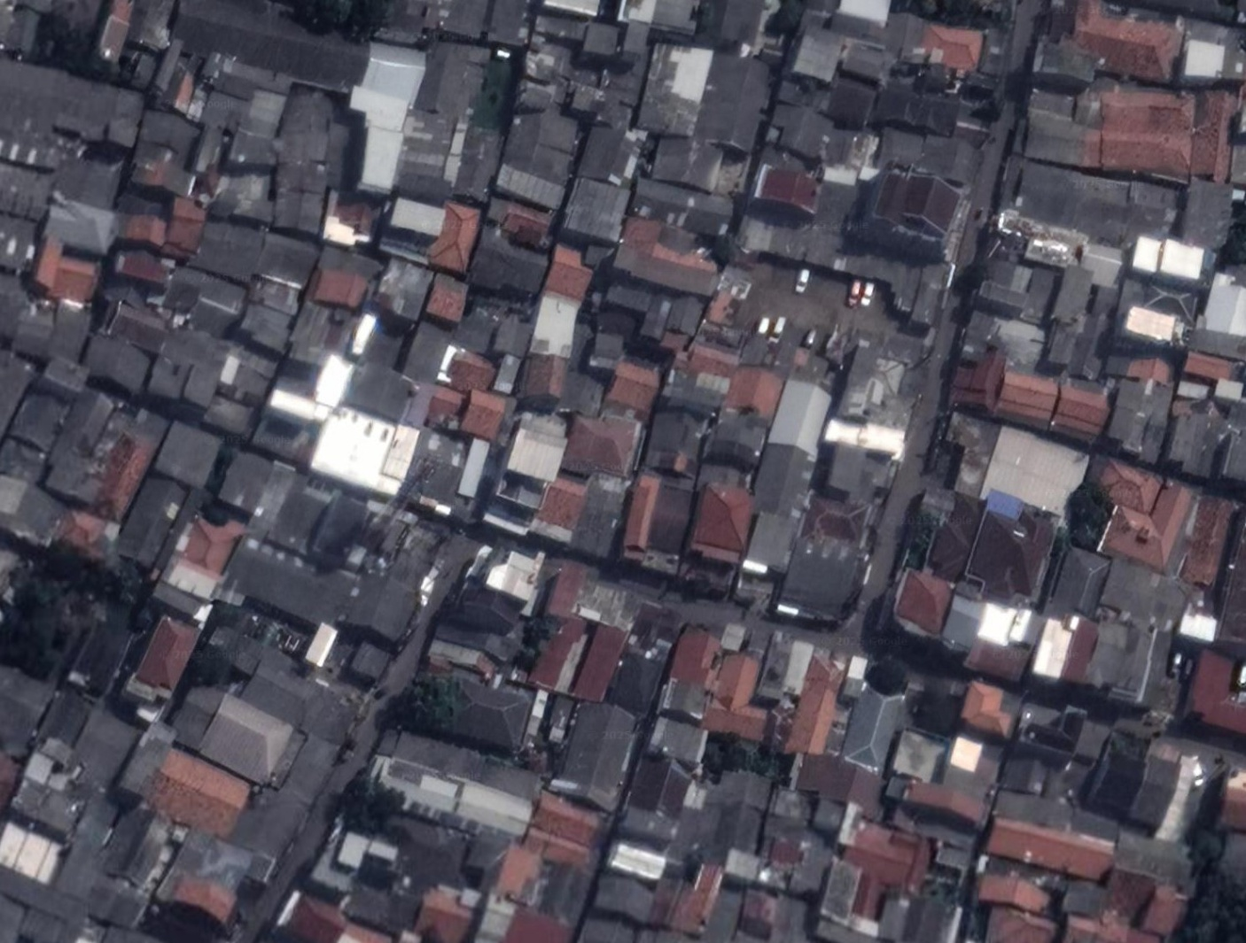building: (267, 301, 443, 456), (360, 719, 546, 852), (994, 151, 1183, 259), (166, 0, 374, 98), (0, 56, 149, 183), (112, 724, 258, 851), (791, 225, 954, 334), (362, 750, 537, 848), (228, 718, 343, 866), (189, 69, 291, 223), (219, 529, 360, 633), (166, 677, 297, 787), (490, 790, 602, 917), (603, 208, 726, 320), (208, 448, 332, 559), (147, 498, 252, 623), (151, 829, 277, 931), (1094, 827, 1204, 943), (71, 397, 171, 520), (482, 408, 571, 539), (307, 401, 424, 500), (980, 811, 1116, 896), (550, 695, 646, 814), (1100, 464, 1201, 575), (979, 424, 1092, 523), (735, 439, 816, 577), (962, 499, 1058, 613), (829, 823, 936, 925), (861, 157, 968, 258), (111, 611, 202, 729), (406, 107, 510, 210), (48, 849, 163, 941), (844, 328, 935, 435), (0, 151, 127, 226), (938, 587, 1045, 671), (689, 45, 769, 156), (651, 626, 734, 731), (495, 108, 580, 210), (43, 384, 115, 504), (21, 692, 103, 796), (153, 265, 252, 351), (56, 705, 141, 805), (1070, 11, 1188, 82), (352, 304, 458, 383), (1044, 277, 1122, 383), (566, 38, 652, 133), (637, 36, 713, 143), (98, 808, 184, 901), (734, 196, 845, 268), (111, 469, 190, 570), (339, 88, 414, 194), (692, 403, 776, 497), (784, 646, 852, 761), (789, 743, 889, 819), (777, 537, 863, 624), (1085, 618, 1171, 705), (751, 814, 837, 901), (698, 647, 780, 738), (621, 473, 697, 571), (464, 225, 555, 306), (560, 409, 646, 494), (3, 863, 94, 943), (988, 205, 1090, 276), (146, 330, 232, 414), (298, 486, 376, 578), (1103, 556, 1194, 633), (700, 769, 776, 861), (240, 655, 330, 732), (60, 782, 140, 868), (1174, 652, 1246, 747), (973, 253, 1062, 329), (11, 290, 94, 371), (62, 611, 137, 700), (399, 427, 474, 516), (836, 682, 908, 774), (345, 569, 425, 651), (204, 627, 303, 693), (765, 371, 839, 459), (424, 376, 513, 449), (381, 515, 453, 605), (416, 37, 492, 122), (921, 489, 988, 585), (193, 209, 276, 286), (760, 91, 845, 166), (685, 483, 759, 567), (932, 410, 1002, 498), (632, 180, 739, 237), (1113, 281, 1202, 349), (305, 241, 382, 319), (527, 609, 594, 698), (577, 869, 657, 943), (452, 682, 533, 754), (1094, 87, 1202, 141), (146, 45, 221, 122), (884, 565, 960, 640), (1089, 728, 1151, 819), (1097, 125, 1194, 183), (1044, 546, 1113, 627), (376, 191, 451, 265), (666, 856, 732, 940), (0, 471, 70, 550), (1105, 376, 1170, 461), (1019, 110, 1108, 172), (1174, 176, 1241, 258), (10, 772, 90, 840), (1127, 745, 1188, 834), (570, 474, 633, 560), (410, 871, 485, 943), (642, 404, 714, 479), (375, 0, 494, 45), (577, 122, 648, 197), (1178, 494, 1234, 589), (0, 662, 54, 760), (28, 240, 101, 312), (79, 329, 156, 397), (818, 443, 897, 509), (964, 309, 1049, 370), (356, 35, 434, 101), (560, 177, 631, 249), (443, 579, 524, 642), (472, 894, 576, 943), (901, 773, 991, 829), (249, 403, 323, 470), (652, 132, 728, 197), (698, 264, 755, 350), (1166, 399, 1226, 480), (132, 101, 206, 166), (1013, 697, 1088, 761), (265, 370, 341, 433), (938, 731, 1007, 800), (572, 624, 630, 706), (628, 751, 694, 823), (511, 50, 574, 124), (994, 367, 1069, 429), (949, 340, 1011, 415), (619, 0, 702, 56), (658, 363, 728, 429), (1193, 272, 1246, 359), (370, 256, 434, 328), (534, 554, 597, 627), (273, 885, 352, 943), (534, 470, 592, 549), (1191, 88, 1241, 179), (346, 363, 423, 422), (258, 233, 330, 296), (154, 420, 222, 486), (571, 574, 644, 635), (1130, 229, 1207, 286), (429, 201, 485, 279), (992, 785, 1076, 837), (803, 493, 877, 552), (528, 290, 588, 362), (822, 411, 908, 461), (724, 360, 790, 425), (7, 386, 70, 454), (692, 0, 771, 54), (298, 682, 362, 748), (43, 198, 118, 254), (973, 866, 1055, 917), (602, 356, 667, 419), (872, 87, 961, 133), (482, 543, 545, 607), (786, 22, 848, 87), (155, 199, 213, 267), (0, 824, 69, 881), (958, 679, 1021, 741), (317, 191, 380, 253), (1050, 385, 1115, 445), (918, 21, 988, 76), (819, 127, 880, 190), (917, 126, 985, 182), (749, 164, 825, 214), (218, 347, 278, 410), (105, 302, 174, 356), (57, 504, 121, 562), (677, 336, 741, 394), (1028, 38, 1098, 91), (888, 727, 949, 787), (543, 240, 600, 304), (1098, 463, 1163, 519), (962, 633, 1032, 685), (484, 199, 555, 249), (936, 591, 991, 655), (0, 348, 36, 444), (1180, 41, 1246, 93), (824, 75, 880, 136), (1220, 511, 1246, 642), (307, 839, 364, 898), (1028, 615, 1077, 683), (816, 857, 865, 925), (835, 33, 896, 87), (367, 502, 421, 562), (124, 158, 199, 201), (732, 884, 787, 942), (451, 297, 504, 357), (274, 182, 332, 235), (519, 349, 570, 409), (92, 0, 138, 66), (1048, 265, 1097, 326), (529, 13, 590, 62), (1077, 239, 1133, 292), (811, 176, 860, 236), (877, 8, 929, 64), (899, 896, 962, 942), (280, 91, 337, 141), (205, 393, 264, 441), (309, 351, 356, 411), (556, 368, 609, 421), (441, 349, 497, 399), (972, 275, 1029, 323), (236, 306, 294, 353), (481, 0, 540, 46), (126, 0, 178, 51), (423, 275, 472, 329), (246, 275, 306, 319), (786, 345, 840, 391), (344, 638, 393, 688), (37, 354, 90, 400), (999, 752, 1052, 798), (1181, 348, 1238, 390), (455, 437, 492, 501), (0, 7, 42, 62), (946, 104, 995, 151), (490, 310, 535, 361), (778, 638, 816, 697), (1220, 399, 1246, 485), (976, 600, 1021, 648), (0, 213, 36, 272), (767, 784, 816, 827), (1023, 267, 1058, 324), (665, 292, 707, 339), (1, 276, 30, 343), (302, 620, 340, 670), (587, 329, 628, 375), (807, 796, 848, 841), (739, 330, 783, 370), (332, 828, 371, 873), (115, 215, 165, 250), (603, 280, 653, 315), (639, 294, 675, 342), (1220, 769, 1246, 833), (1125, 353, 1175, 386), (722, 847, 763, 886), (112, 254, 173, 280), (280, 134, 328, 166), (769, 329, 803, 374), (491, 352, 523, 396), (365, 835, 402, 867), (588, 24, 620, 58), (544, 2, 601, 20), (658, 326, 691, 357), (1176, 378, 1210, 402), (1214, 377, 1244, 403)
tree: (332, 768, 404, 841), (388, 671, 462, 740), (2, 584, 56, 670), (1059, 484, 1114, 551), (704, 736, 778, 785), (908, 679, 968, 739), (280, 0, 384, 28), (183, 641, 238, 693), (96, 558, 149, 611), (38, 547, 94, 596), (860, 655, 913, 704), (901, 511, 941, 560), (893, 1, 977, 23), (203, 446, 237, 493), (208, 600, 243, 632), (521, 614, 555, 646), (679, 574, 709, 602), (199, 502, 229, 528)
